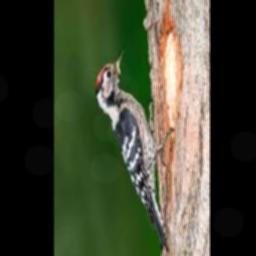Woodpecker: (95, 50, 174, 250)
